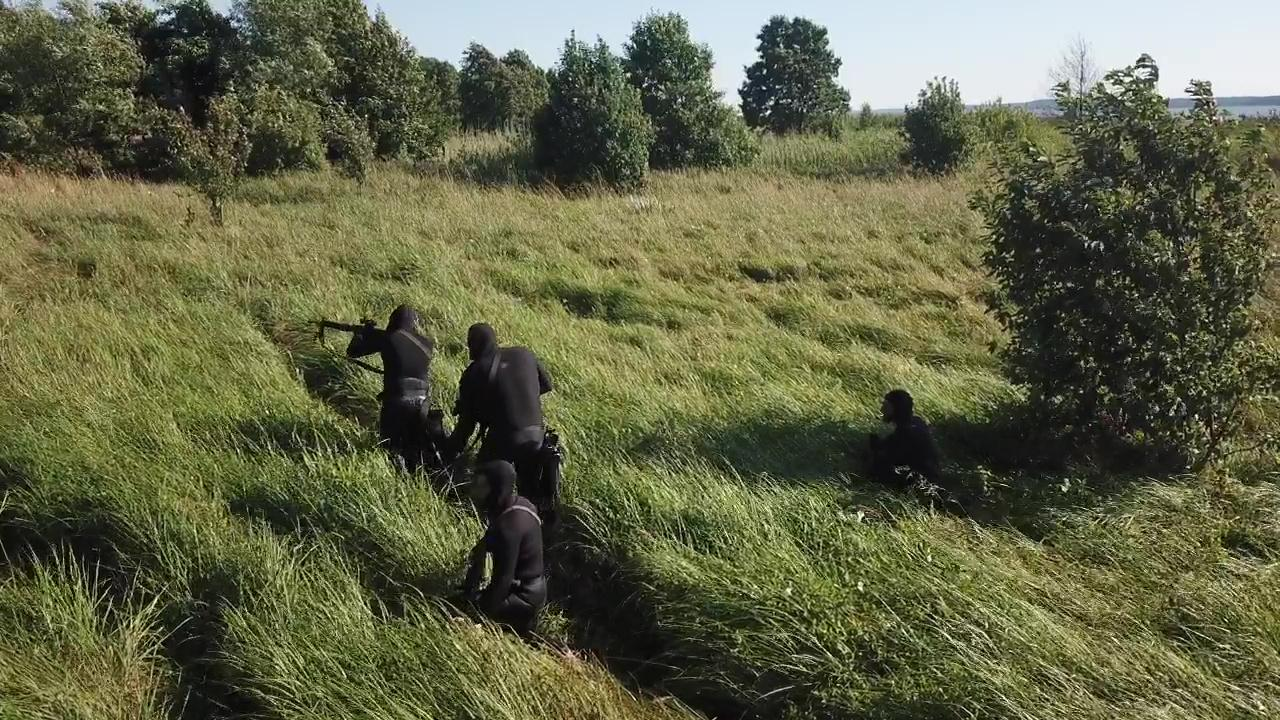Soldier: (445, 325, 569, 501), (312, 296, 436, 464), (459, 467, 556, 643), (862, 384, 941, 486)
